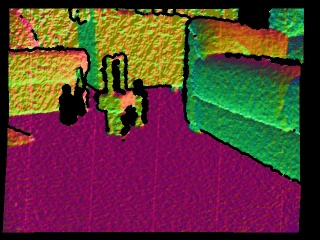station: (97, 52, 136, 111)
